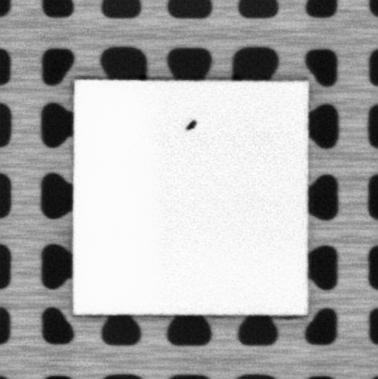DIE_INK: (184, 116, 199, 133)
